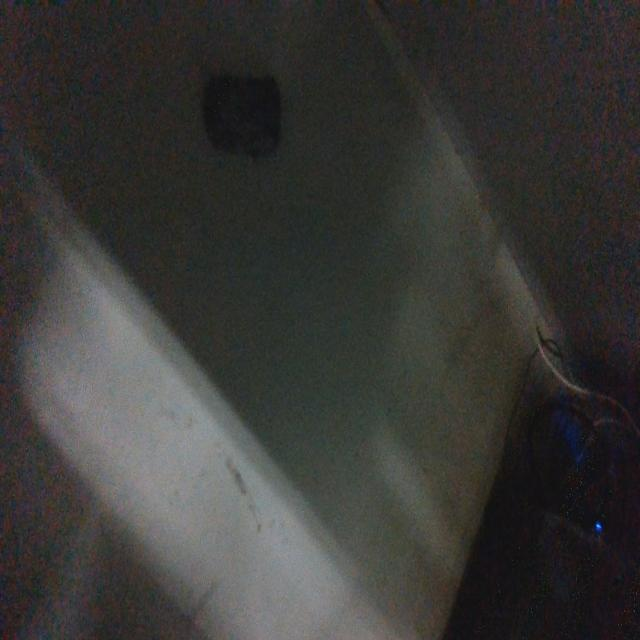stone: (201, 73, 282, 160)
